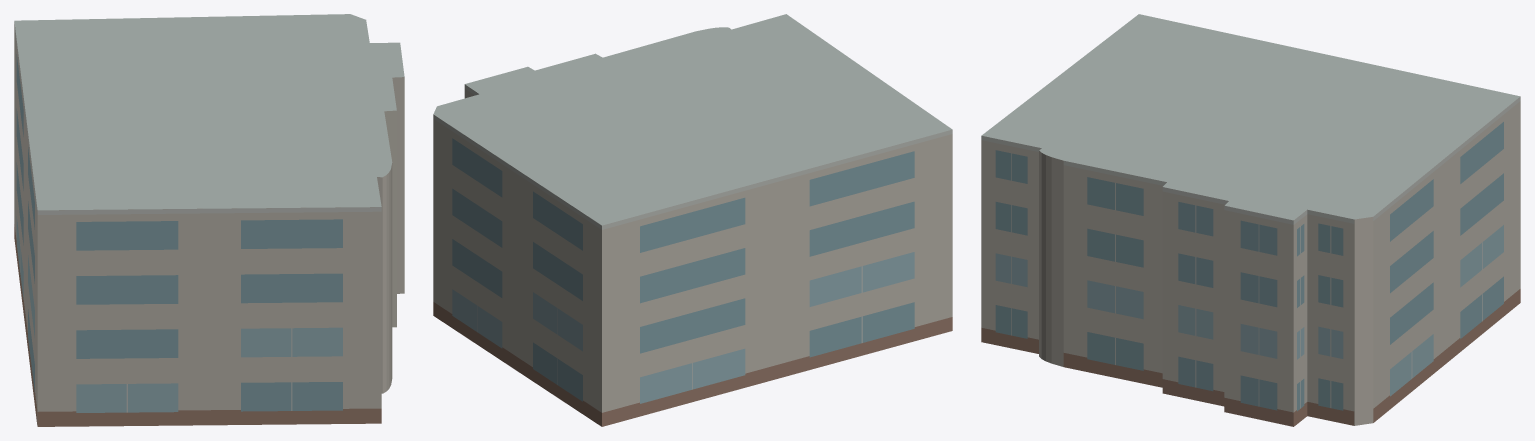
Rendered from survey-upis-32848674.glb.
3 views of the same model, side by side, from view 1: azimuth 30°, elevation 25°; view 2: azimuth 150°, elevation 25°; view 3: azimuth 270°, elevation 25° (orthographic). The views are drawn at different scales.
Parts seen in each view (by area): view 1: survey-upis-32848674.tmp; view 2: survey-upis-32848674.tmp; view 3: survey-upis-32848674.tmp.
Part boxes in pixels (box(x1,y1,x2,y2)): survey-upis-32848674.tmp: box(14, 14, 404, 426); survey-upis-32848674.tmp: box(433, 14, 952, 426); survey-upis-32848674.tmp: box(981, 14, 1520, 426).
Size of the model in its own units: 24.03 by 11.2 by 26.52.
